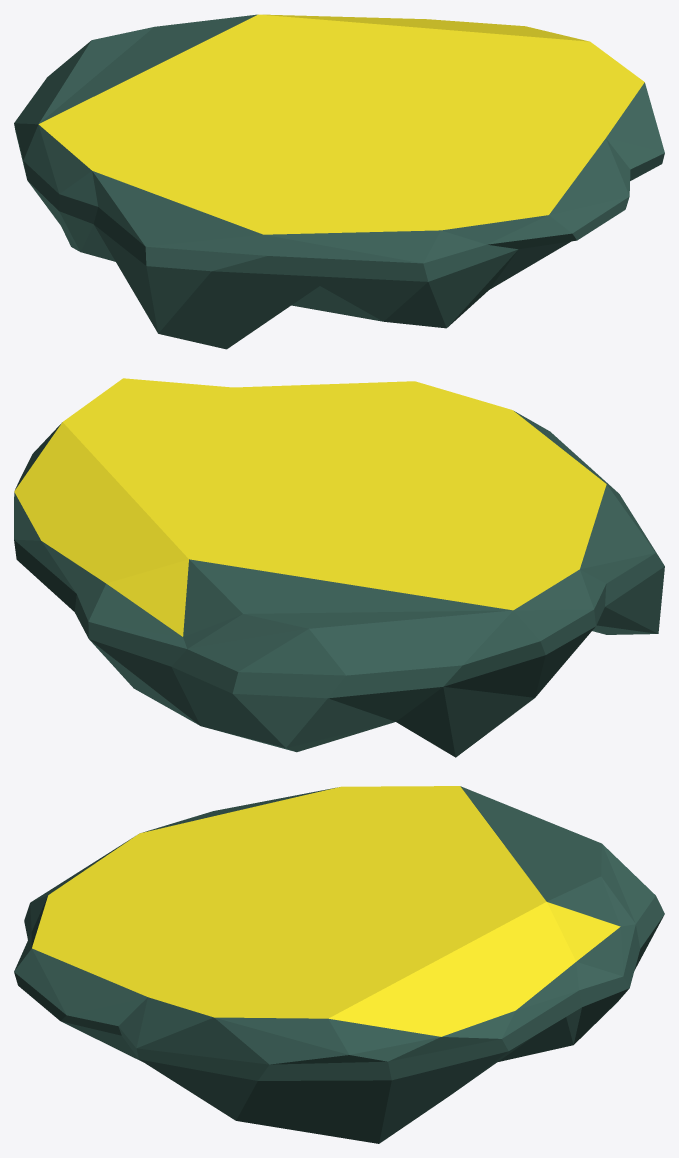
Rendered from Stone_24.fbx.
3 renders of one model, top to bottom at view 1: azimuth 30°, elevation 25°; view 2: azimuth 150°, elevation 25°; view 3: azimuth 270°, elevation 25°, orthographic. The views are drawn at different scales.
Parts seen in each view (by area): view 1: Stone 24; view 2: Stone 24; view 3: Stone 24.
Part boxes in pixels (bbox=[...]): Stone 24: bbox=[14, 14, 664, 349]; Stone 24: bbox=[14, 378, 664, 757]; Stone 24: bbox=[14, 786, 664, 1143].
Bounding box in the file's own units: 5909 × 1649 × 6090.
